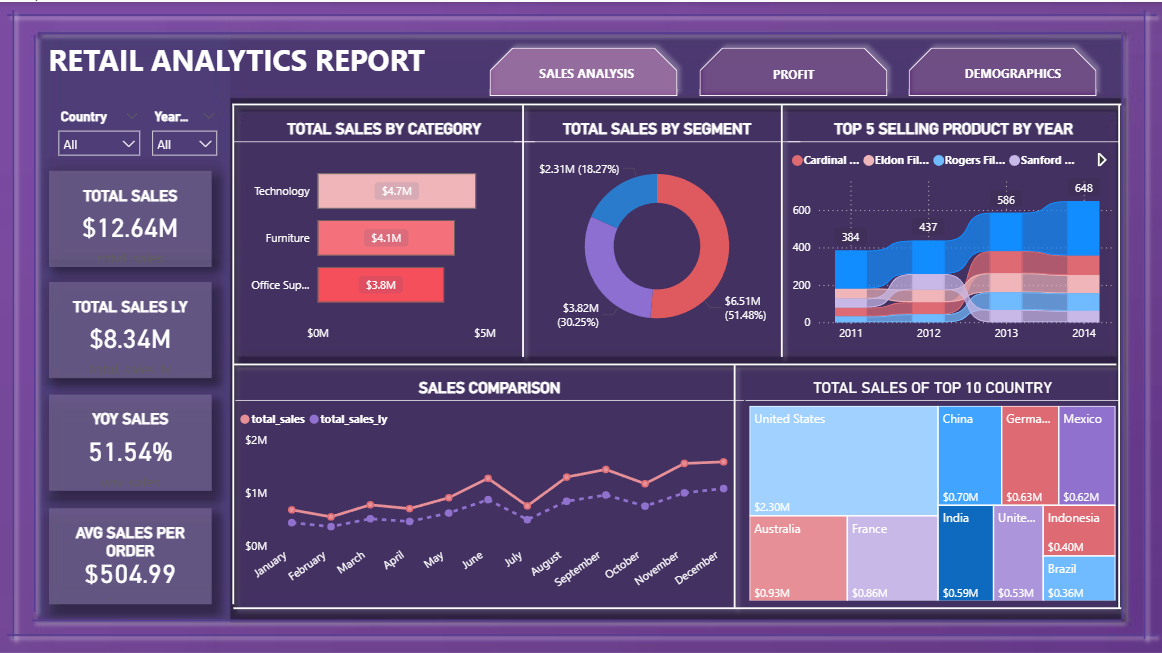

The dashboard page shown, as its layout file describes it:
{"tool":"powerbi","page":{"name":"SALES","canvas":[1280,720],"ordinal":0},"visuals":[{"type":"card","title":"TOTAL SALES","fields":{"Values":["Calculated_Table.total_sales"]},"box":[54.3,185.7,178.6,105.7],"z":0},{"type":"card","title":"TOTAL SALES LY","fields":{"Values":["Calculated_Table.total_sales_ly"]},"box":[54.3,307.1,178.6,105.7],"z":1000},{"type":"card","title":"YOY SALES","fields":{"Values":["Calculated_Table.yoy_sales"]},"box":[54.3,431.4,178.6,105.7],"z":2000},{"type":"card","title":"AVG SALES PER ORDER","fields":{"Values":["Calculated_Table.avg_sales_per_order"]},"box":[54.3,555.7,178.6,105.7],"z":3000},{"type":"clusteredBarChart","title":"TOTAL SALES BY CATEGORY","fields":{"Y":["Calculated_Table.total_sales"],"Category":["product_table.Category"]},"box":[258.6,128.6,330,251.4],"z":4000},{"type":"donutChart","title":"TOTAL SALES BY SEGMENT","fields":{"Y":["Calculated_Table.total_sales"],"Category":["customer_table.Segment"]},"box":[565.7,128.6,314.3,251.4],"z":5000},{"type":"ribbonChart","title":"TOP 5 SELLING PRODUCT BY YEAR","fields":{"Series":["product_table.Product Name"],"Category":["date_table.Date.Variation.Date Hierarchy.Year"],"Y":["Calculated_Table.total_quantity"]},"box":[865.7,128.6,364.3,251.4],"z":6000},{"type":"lineChart","title":"SALES COMPARISON","fields":{"Category":["date_table.Date.Variation.Date Hierarchy.Month"],"Y":["Calculated_Table.total_sales","Calculated_Table.total_sales_ly"]},"box":[260,412.9,558.6,248.6],"z":7000},{"type":"treemap","title":"TOTAL SALES OF TOP 10 COUNTRY","fields":{"Values":["Calculated_Table.total_sales"],"Group":["location_table.Country"]},"box":[818.6,412.9,411.4,248.6],"z":8000},{"type":"shape","box":[410,104.3,330,294.3],"z":9000},{"type":"shape","box":[694.3,104.3,330,294.3],"z":10000},{"type":"shape","box":[772.9,390,70,284.3],"z":11000},{"type":"shape","box":[247.1,95.7,994.3,32.9],"z":12000},{"type":"shape","box":[248.6,381.4,987.1,32.9],"z":13000},{"type":"shape","box":[225.7,104.3,64.3,565.7],"z":14000},{"type":"shape","box":[27.1,648.6,1214.3,60],"z":15000},{"type":"shape","box":[248.6,648.6,992.9,32.9],"z":16000},{"type":"shape","box":[1191.4,104.3,77.1,570],"z":17000},{"type":"shape","box":[34.3,4.3,1207.1,60],"z":18000},{"type":"shape","box":[0,27.1,78.6,651.4],"z":19000},{"type":"shape","box":[1194.3,27.1,78.6,658.6],"z":20000},{"type":"shape","box":[0,0,1280,28.6],"z":21000},{"type":"shape","box":[0,0,31.4,708.6],"z":22000},{"type":"shape","box":[0,680,1280,28.6],"z":23000},{"type":"shape","box":[1241.4,0,31.4,708.6],"z":24000},{"type":"pageNavigator","box":[530,41.4,685.7,71.4],"z":25000},{"type":"textbox","box":[550,64.3,190,35.7],"z":26000},{"type":"textbox","box":[780,65.7,190,35.7],"z":27000},{"type":"textbox","box":[1018.6,64.3,190,35.7],"z":28000},{"type":"slicer","fields":{"Values":["date_table.Date.Variation.Date Hierarchy.Year","date_table.Date.Variation.Date Hierarchy.Month"]},"box":[157.1,112.9,91.4,55.7],"z":29000},{"type":"slicer","fields":{"Values":["location_table.Country"]},"box":[54.3,112.9,110,55.7],"z":30000},{"type":"textbox","box":[50,37.1,480,90],"z":31000}]}

Visuals, with their boxes in screenshot pixels (x1, y1, x2, y2), scaled from the page's 1280x720 canvas onto the 1162x653 screenshot:
"TOTAL SALES" card: BBox(49, 168, 211, 264)
"TOTAL SALES LY" card: BBox(49, 279, 211, 374)
"YOY SALES" card: BBox(49, 391, 211, 487)
"AVG SALES PER ORDER" card: BBox(49, 504, 211, 600)
"TOTAL SALES BY CATEGORY" clusteredBarChart: BBox(235, 117, 534, 345)
"TOTAL SALES BY SEGMENT" donutChart: BBox(514, 117, 799, 345)
"TOP 5 SELLING PRODUCT BY YEAR" ribbonChart: BBox(786, 117, 1117, 345)
"SALES COMPARISON" lineChart: BBox(236, 374, 743, 600)
"TOTAL SALES OF TOP 10 COUNTRY" treemap: BBox(743, 374, 1117, 600)
shape: BBox(372, 95, 672, 362)
shape: BBox(630, 95, 930, 362)
shape: BBox(702, 354, 765, 612)
shape: BBox(224, 87, 1127, 117)
shape: BBox(226, 346, 1122, 376)
shape: BBox(205, 95, 263, 608)
shape: BBox(25, 588, 1127, 643)
shape: BBox(226, 588, 1127, 618)
shape: BBox(1082, 95, 1152, 612)
shape: BBox(31, 4, 1127, 58)
shape: BBox(0, 25, 71, 615)
shape: BBox(1084, 25, 1156, 622)
shape: BBox(0, 0, 1161, 26)
shape: BBox(0, 0, 29, 643)
shape: BBox(0, 617, 1161, 643)
shape: BBox(1127, 0, 1155, 643)
pageNavigator: BBox(481, 38, 1104, 102)
textbox: BBox(499, 58, 672, 91)
textbox: BBox(708, 60, 881, 92)
textbox: BBox(925, 58, 1097, 91)
slicer - date_table.Date.Variation.Date Hierarchy.Year x date_table.Date.Variation.Date Hierarchy.Month: BBox(143, 102, 226, 153)
slicer - location_table.Country: BBox(49, 102, 149, 153)
textbox: BBox(45, 34, 481, 115)
